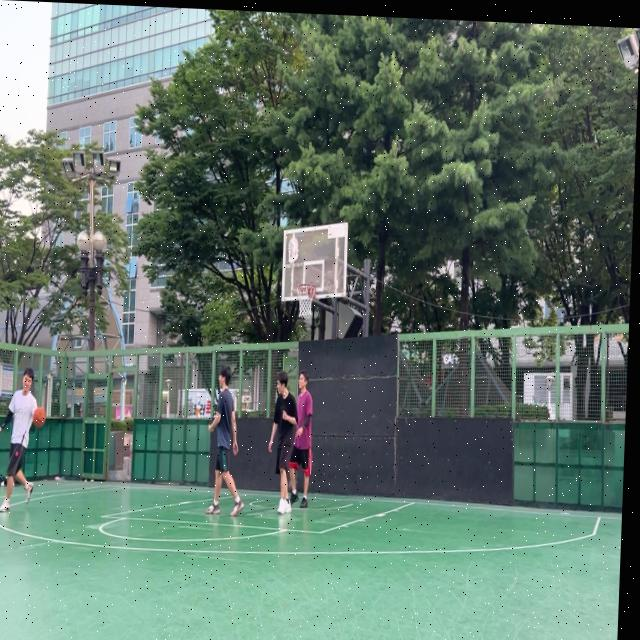basketball: (32, 406, 46, 429)
hoop: (295, 282, 316, 320)
